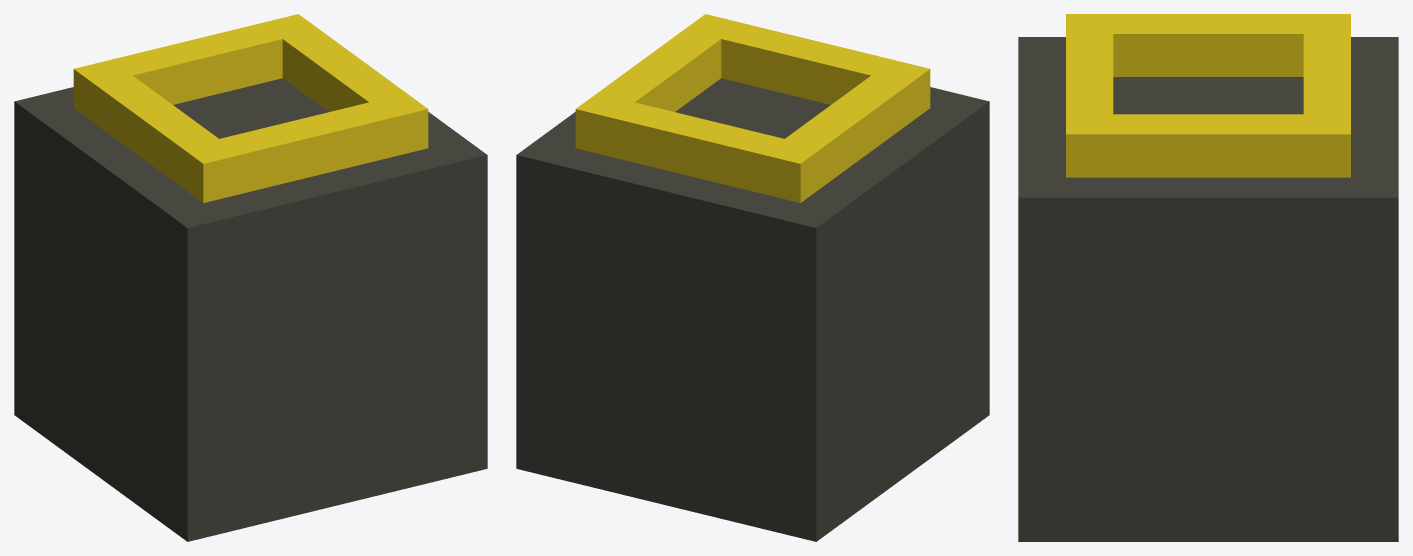
The model's file is LoopedBorder.fbx.
The picture shows the model from 3 angles, left to right: view 1: azimuth 30°, elevation 25°; view 2: azimuth 150°, elevation 25°; view 3: azimuth 270°, elevation 25°; orthographic projection. The views are drawn at different scales.
Parts seen in each view (by area): view 1: Border, Outline; view 2: Border, Outline; view 3: Border, Outline.
Part boxes in pixels (x1=…): Border: x1=14, y1=78, x2=487, y2=541; Outline: x1=73, y1=14, x2=428, y2=202; Border: x1=516, y1=78, x2=989, y2=541; Outline: x1=575, y1=14, x2=930, y2=202; Border: x1=1018, y1=37, x2=1398, y2=541; Outline: x1=1066, y1=14, x2=1350, y2=177.
Bounding box in the file's own units: 100 × 112 × 100.
